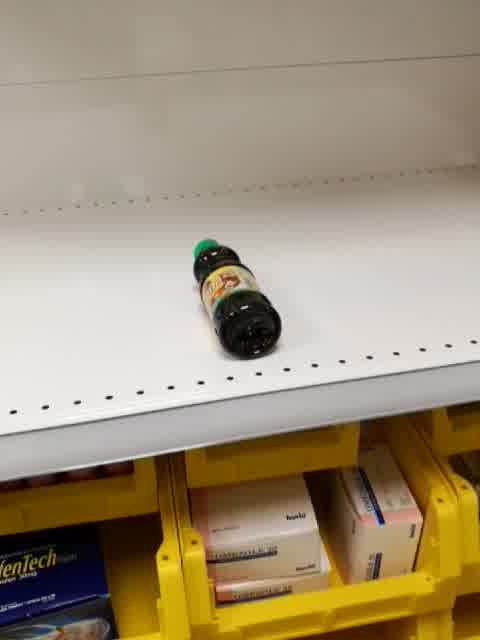cookingoil: (190, 236, 284, 362)
